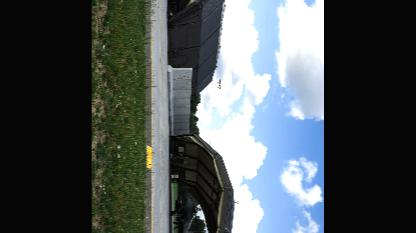E2: (170, 194, 206, 231), (168, 0, 195, 16)
